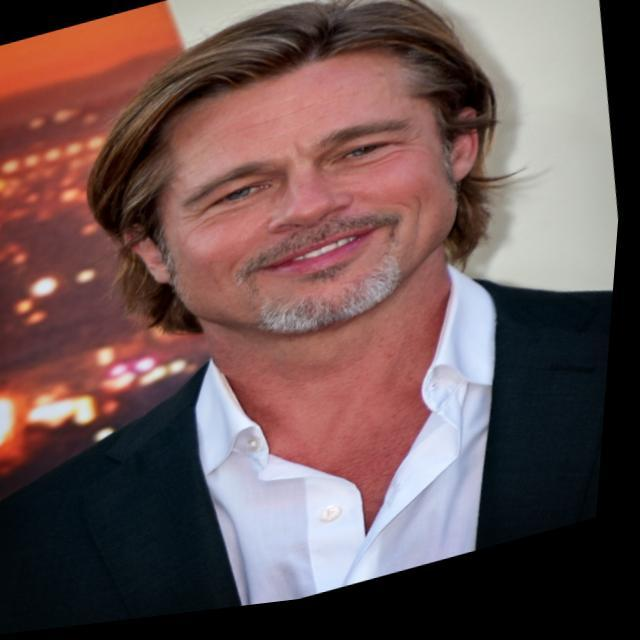Nonhelmet: (83, 0, 524, 339)
